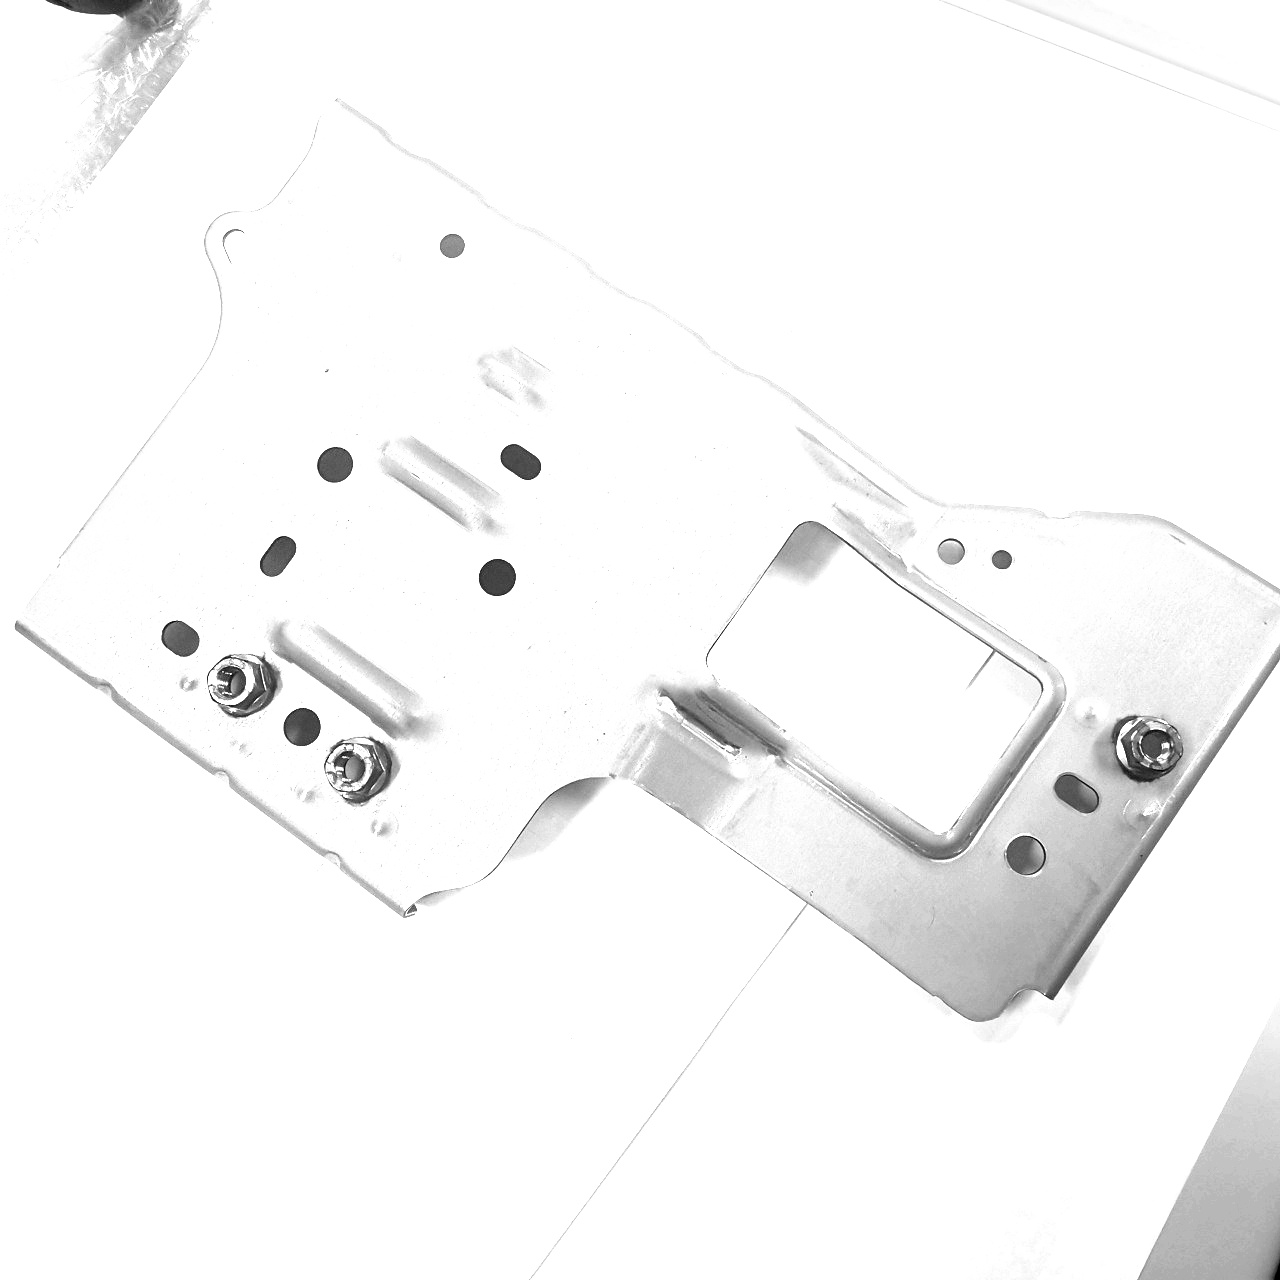dog: (1110, 710, 1182, 788), (204, 651, 278, 724), (320, 731, 392, 808)
